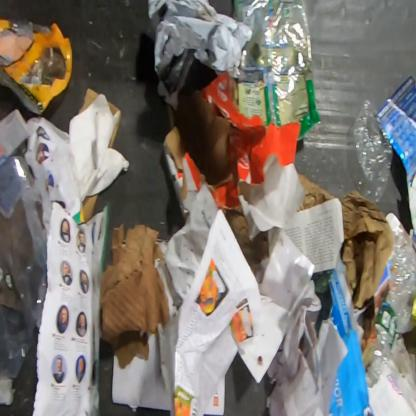cardboard: (163, 70, 307, 276), (99, 222, 170, 370), (108, 100, 122, 148), (78, 88, 100, 114), (83, 194, 98, 223)
rigid_plastic: (365, 221, 415, 389)
soft_plastic: (232, 0, 322, 140), (147, 0, 253, 112), (0, 154, 47, 380), (0, 16, 73, 115), (347, 98, 393, 203)
